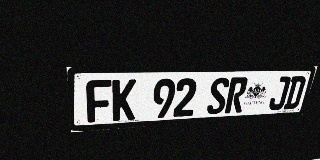2: (173, 78, 197, 117)
9: (152, 78, 176, 118)
D: (283, 76, 307, 109)
F: (86, 80, 111, 123)
J: (267, 76, 292, 111)
K: (112, 79, 136, 121)
R: (224, 77, 249, 113)
S: (206, 77, 230, 115)
